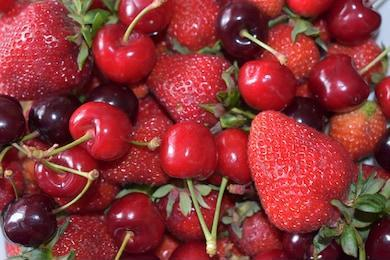Fresa: (242, 106, 359, 239), (142, 48, 244, 133), (260, 17, 322, 86)
